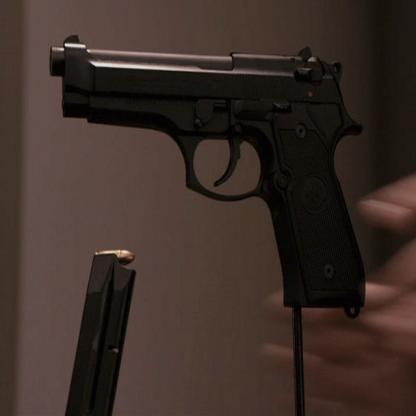gun: (39, 0, 375, 326)
